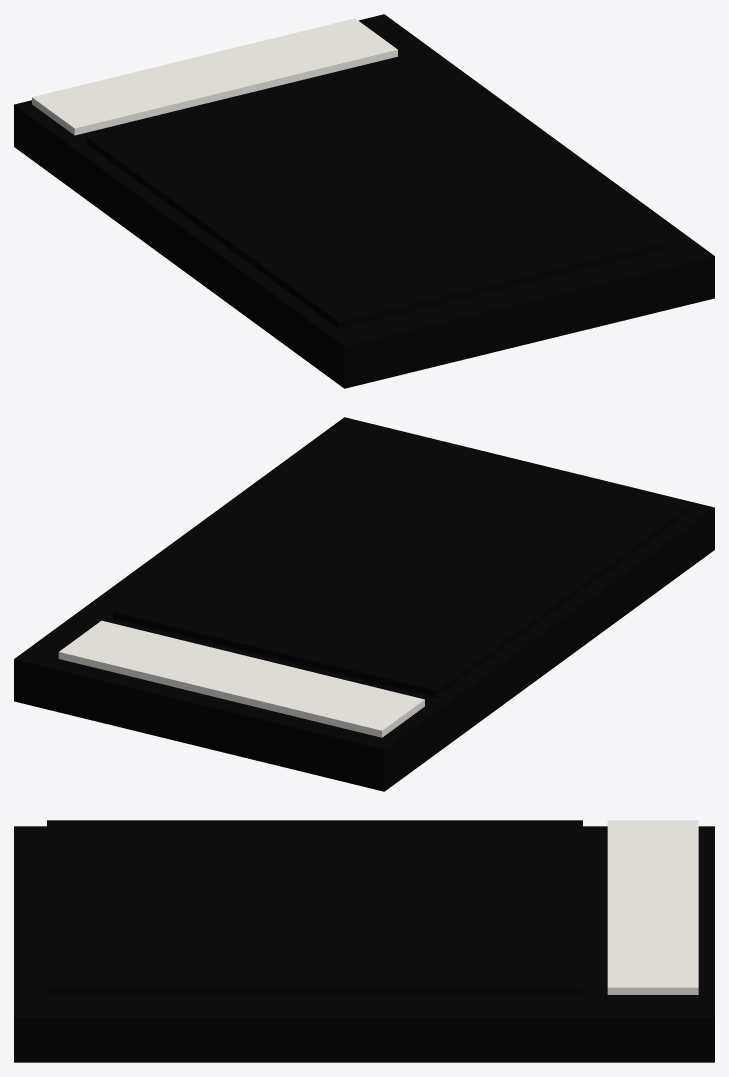
Rendered from Item_game_soft.fbx.
3 renders of one model, top to bottom at view 1: azimuth 30°, elevation 25°; view 2: azimuth 150°, elevation 25°; view 3: azimuth 270°, elevation 25°, orthographic. The views are drawn at different scales.
Parts seen in each view (by area): view 1: Art, Case, Logo; view 2: Art, Case, Logo; view 3: Art, Case, Logo.
Part boxes in pixels (<box>): Art: <box>86,58,662,328</box>; Case: <box>14,14,714,388</box>; Logo: <box>32,18,397,135</box>; Art: <box>113,427,689,697</box>; Case: <box>14,417,714,791</box>; Logo: <box>58,620,424,737</box>; Art: <box>47,820,582,994</box>; Case: <box>14,826,714,1062</box>; Logo: <box>607,820,698,994</box>.
Size of the model in its own units: 0.1485 by 0.0203 by 0.2295.
